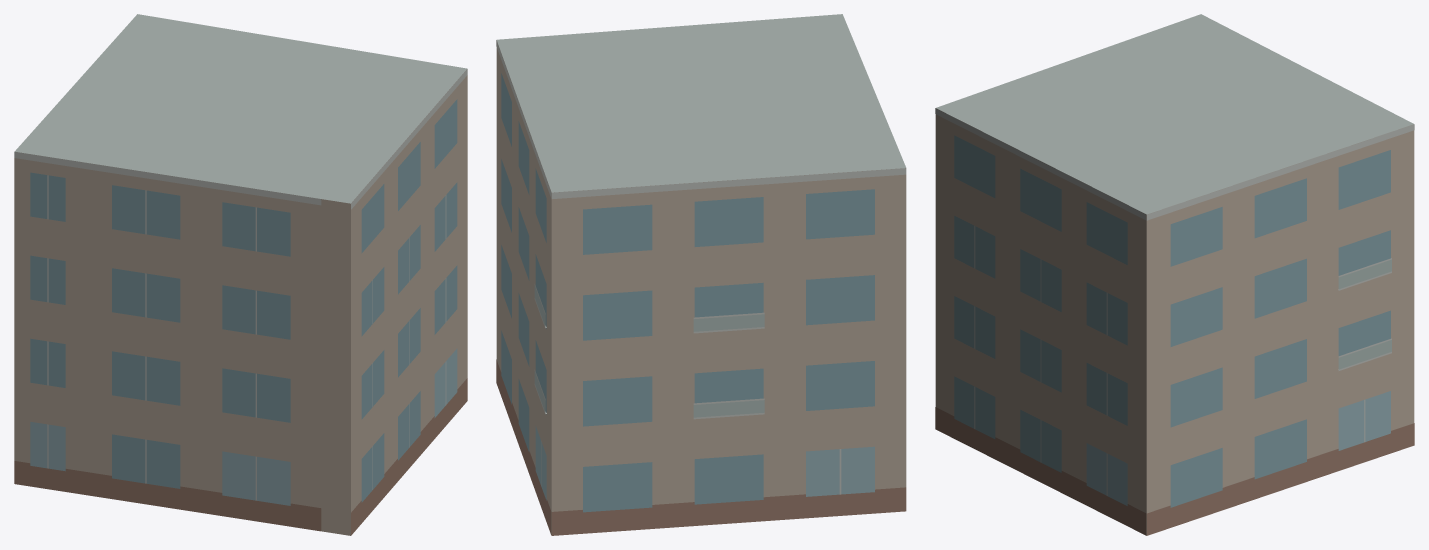
The model's file is survey-upis-32828609.glb.
3 renders of one model, left to right at view 1: azimuth 30°, elevation 25°; view 2: azimuth 150°, elevation 25°; view 3: azimuth 270°, elevation 25°, orthographic. The views are drawn at different scales.
Parts seen in each view (by area): view 1: survey-upis-32828609.tmp; view 2: survey-upis-32828609.tmp; view 3: survey-upis-32828609.tmp.
Boxes of the visible parts, x1,y1,x2,y2 form: survey-upis-32828609.tmp: (14, 14, 467, 535); survey-upis-32828609.tmp: (496, 14, 906, 535); survey-upis-32828609.tmp: (935, 14, 1414, 535).
Bounding box in the file's own units: 17 × 12.7 × 17.16.
